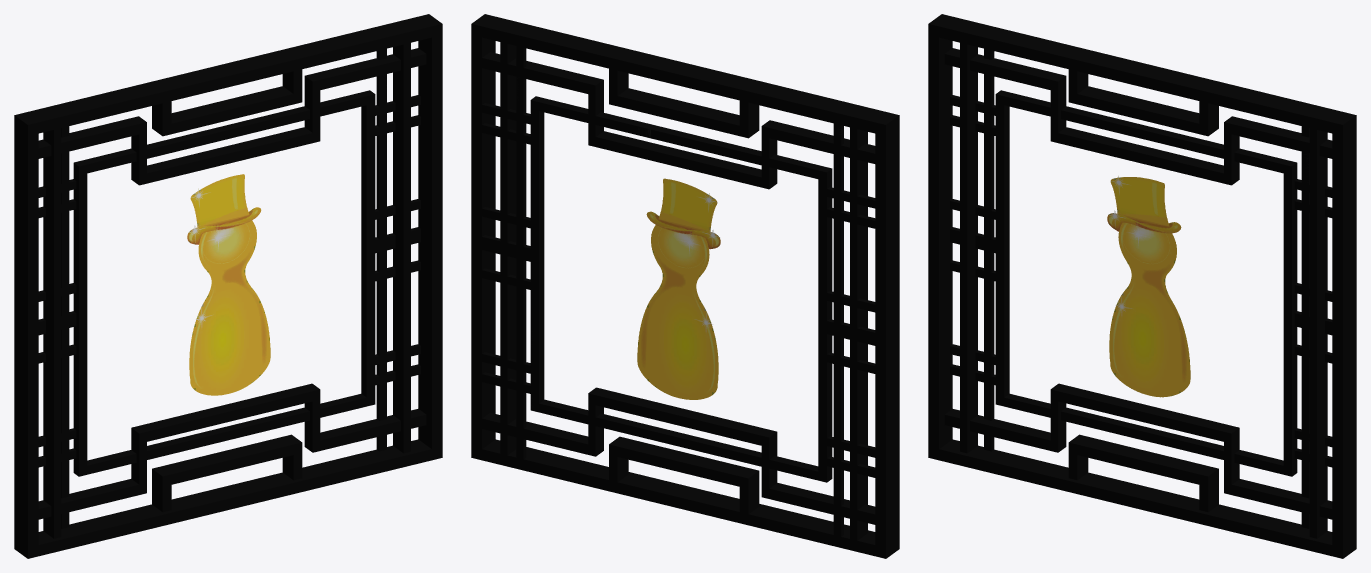
File: joe poster .fbx
3 views of the same model, side by side, from view 1: azimuth 30°, elevation 25°; view 2: azimuth 150°, elevation 25°; view 3: azimuth 330°, elevation 25° (orthographic).
Parts seen in each view (by area): view 1: node_id34, node_id43; view 2: node_id34, node_id43; view 3: node_id34, node_id43.
Boxes of the visible parts, x1,y1,x2,y2 form: node_id34: (14, 14, 442, 558); node_id43: (187, 174, 270, 395); node_id34: (471, 14, 899, 558); node_id43: (637, 178, 720, 399); node_id34: (928, 14, 1356, 558); node_id43: (1107, 176, 1190, 397).
Size of the model in its own units: 0.512 by 0.512 by 0.0288.
2 materials, 2 textured.
